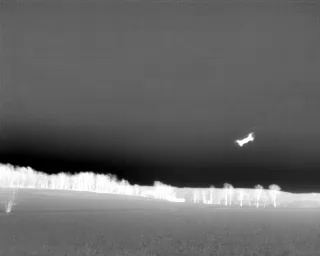DRONE: (231, 127, 258, 152)
